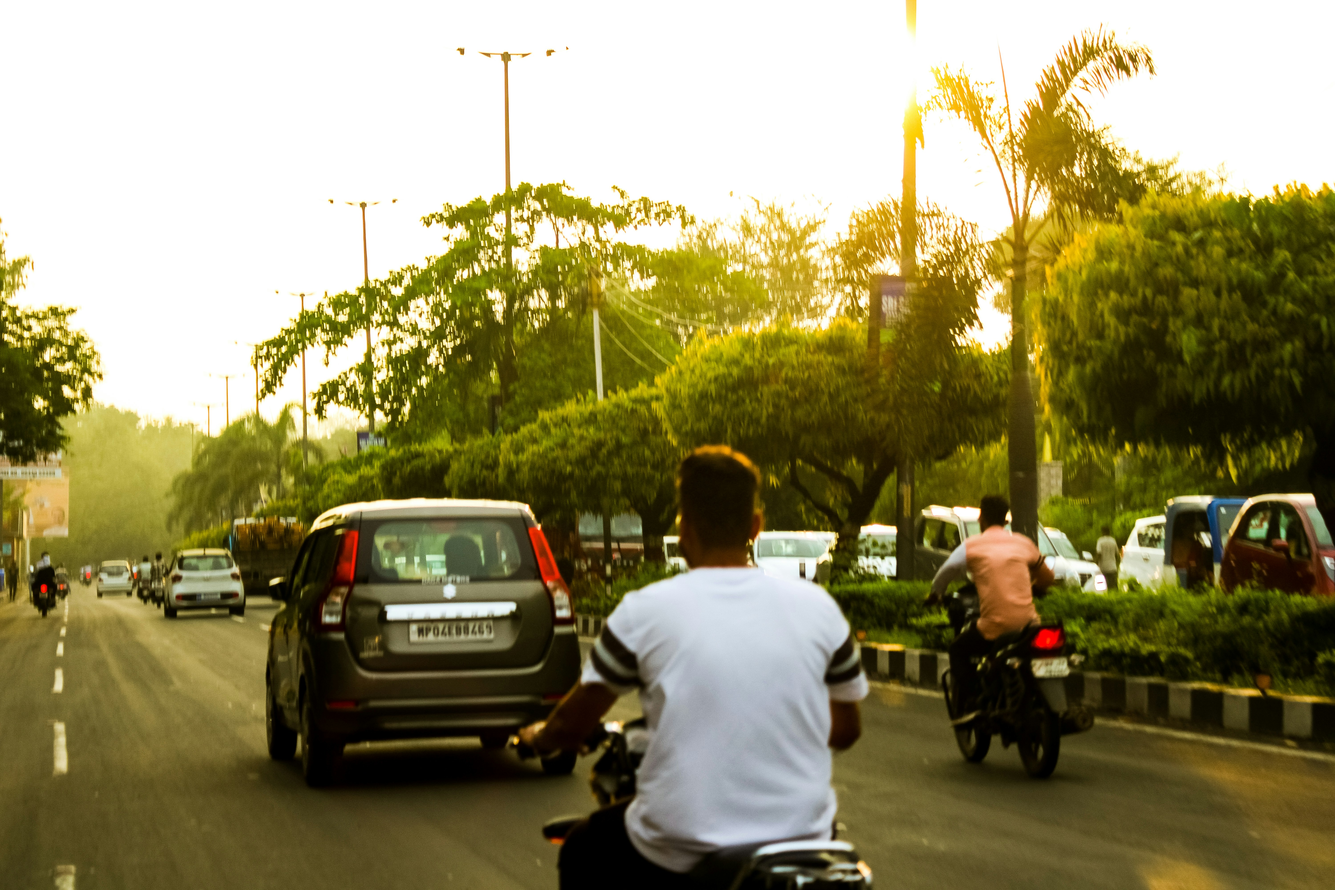No_Helmet: (661, 439, 794, 575), (970, 483, 1025, 539)
